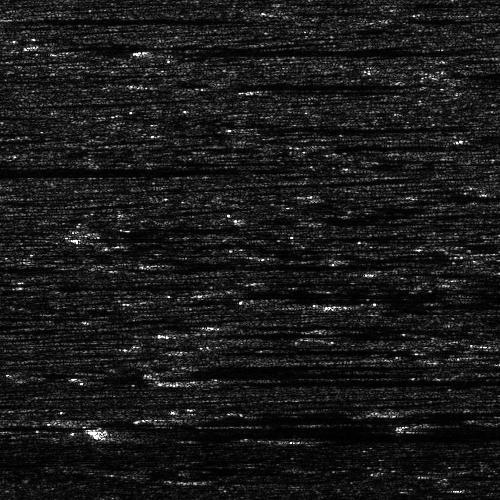object: (122, 412, 237, 427), (169, 368, 222, 393), (175, 355, 238, 372), (142, 365, 205, 380), (72, 428, 145, 439), (371, 407, 454, 416), (381, 421, 444, 432), (169, 476, 232, 481)
shadow: (195, 368, 500, 393), (180, 412, 500, 427), (108, 428, 500, 439), (174, 365, 424, 380), (206, 355, 396, 372), (413, 407, 500, 416), (413, 421, 479, 432), (201, 476, 330, 481)
